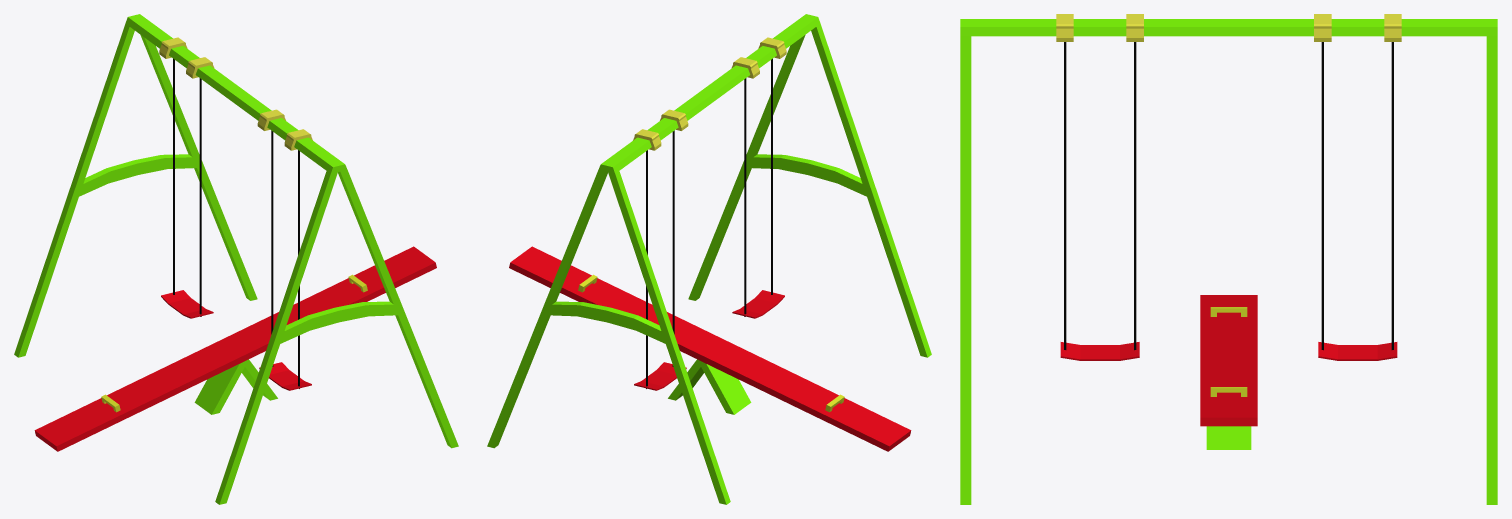
File: SubeYBaja.fbx
3 renders of one model, left to right at view 1: azimuth 30°, elevation 25°; view 2: azimuth 150°, elevation 25°; view 3: azimuth 270°, elevation 25°, orthographic. The views are drawn at different scales.
Parts seen in each view (by area): view 1: Columpio, SubeYBaja; view 2: Columpio, SubeYBaja; view 3: Columpio, SubeYBaja.
Boxes of the visible parts, left/top/right/bottom form: Columpio: left=14, top=14, right=458, bottom=504; SubeYBaja: left=34, top=246, right=436, bottom=451; Columpio: left=487, top=14, right=931, bottom=504; SubeYBaja: left=509, top=246, right=911, bottom=451; Columpio: left=960, top=14, right=1497, bottom=504; SubeYBaja: left=1200, top=295, right=1257, bottom=449.
Bounding box in the file's own units: 328 × 258 × 306.
